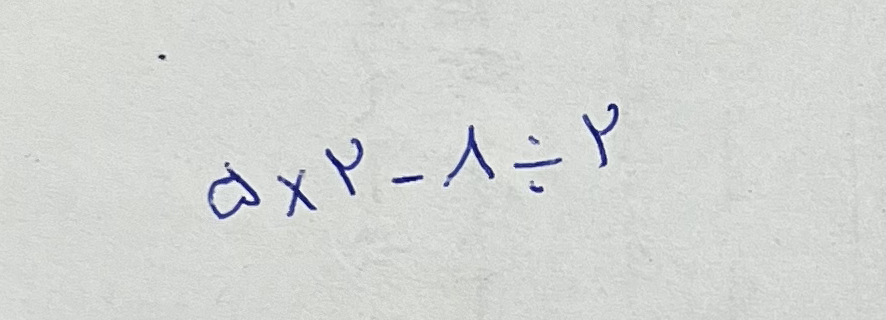character: (207, 159, 264, 222), (443, 122, 497, 187), (509, 136, 566, 194), (323, 135, 366, 199), (274, 166, 319, 218), (582, 104, 618, 169), (388, 171, 429, 189)
